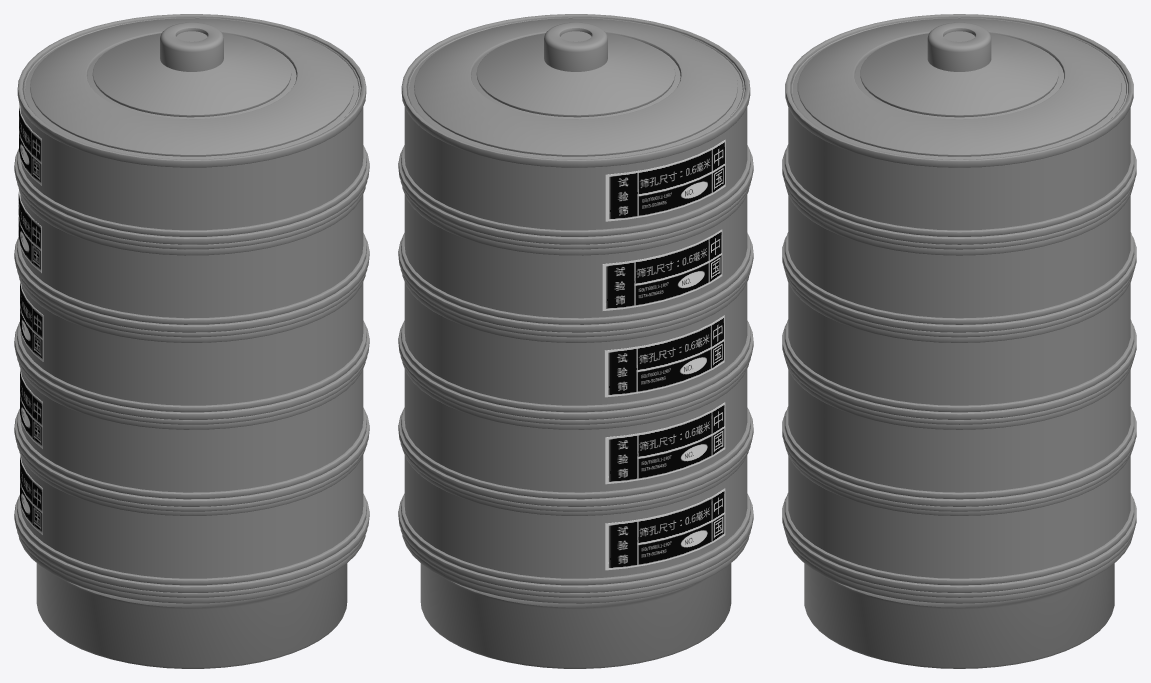
The picture shows the model from 3 angles, left to right: view 1: azimuth 30°, elevation 25°; view 2: azimuth 150°, elevation 25°; view 3: azimuth 270°, elevation 25°; orthographic projection.
Parts seen in each view (by area): view 1: gaizi, shai_1, shai_2, shai_3, shai_4_, shai_5_, polySurface18; view 2: gaizi, shai_1, shai_2, shai_3, shai_4_, shai_5_, polySurface18; view 3: gaizi, shai_1, shai_2, shai_3, shai_4_, shai_5_, polySurface18.
Part boxes in pixels (box(x1,y1,x2,y2)): gaizi: box(23, 17, 360, 159); shai_1: box(14, 14, 369, 249); shai_2: box(14, 187, 369, 337); shai_3: box(14, 274, 369, 424); shai_4_: box(14, 362, 369, 511); shai_5_: box(14, 449, 369, 597); polySurface18: box(18, 535, 365, 668); gaizi: box(407, 17, 744, 159); shai_1: box(398, 14, 753, 249); shai_2: box(398, 187, 753, 337); shai_3: box(398, 274, 753, 424); shai_4_: box(398, 362, 753, 511); shai_5_: box(398, 449, 753, 597); polySurface18: box(402, 535, 749, 668); gaizi: box(791, 17, 1127, 159); shai_1: box(782, 14, 1136, 249); shai_2: box(782, 185, 1136, 337); shai_3: box(782, 276, 1136, 424); shai_4_: box(782, 365, 1136, 511); shai_5_: box(782, 453, 1136, 597); polySurface18: box(786, 537, 1132, 668).
Size of the model in its own units: 13.89 by 24.6 by 13.86.
